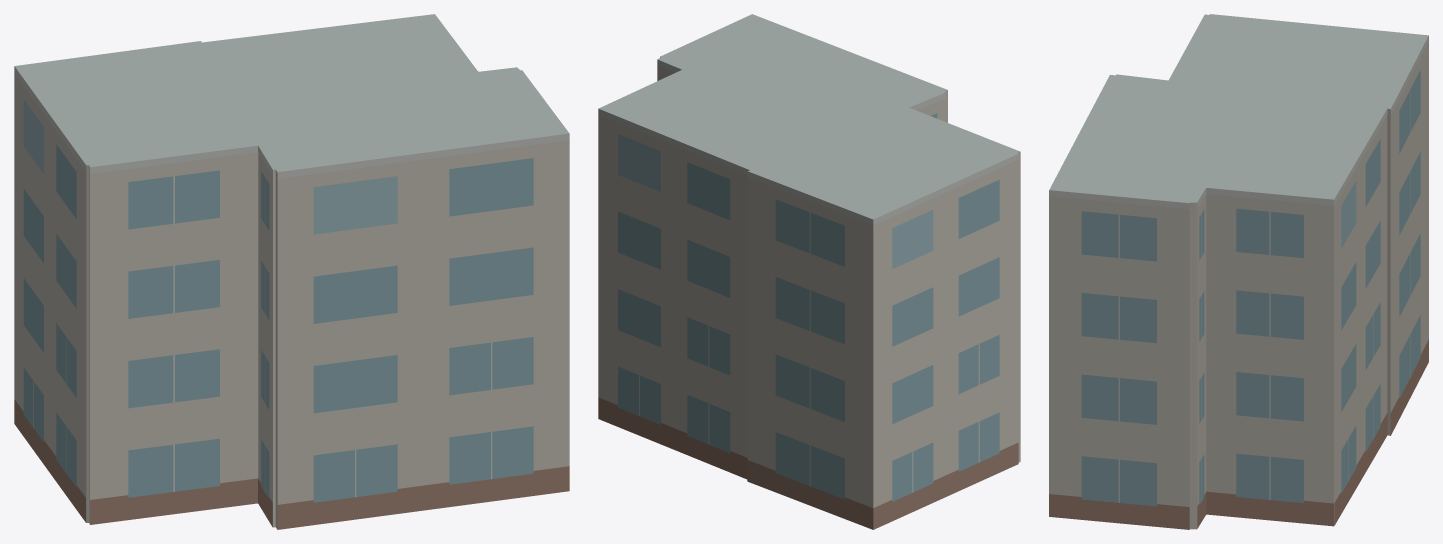
The model's file is survey-upis-32828239.glb.
The picture shows the model from 3 angles, left to right: view 1: azimuth 30°, elevation 25°; view 2: azimuth 150°, elevation 25°; view 3: azimuth 270°, elevation 25°; orthographic projection. The views are drawn at different scales.
Parts seen in each view (by area): view 1: survey-upis-32828239.tmp; view 2: survey-upis-32828239.tmp; view 3: survey-upis-32828239.tmp.
Part boxes in pixels (box(x1,y1,x2,y2)): survey-upis-32828239.tmp: box(14, 14, 569, 529); survey-upis-32828239.tmp: box(598, 14, 1020, 529); survey-upis-32828239.tmp: box(1049, 14, 1428, 529).
Bounding box in the file's own units: 16.17 × 13.01 × 13.72.
